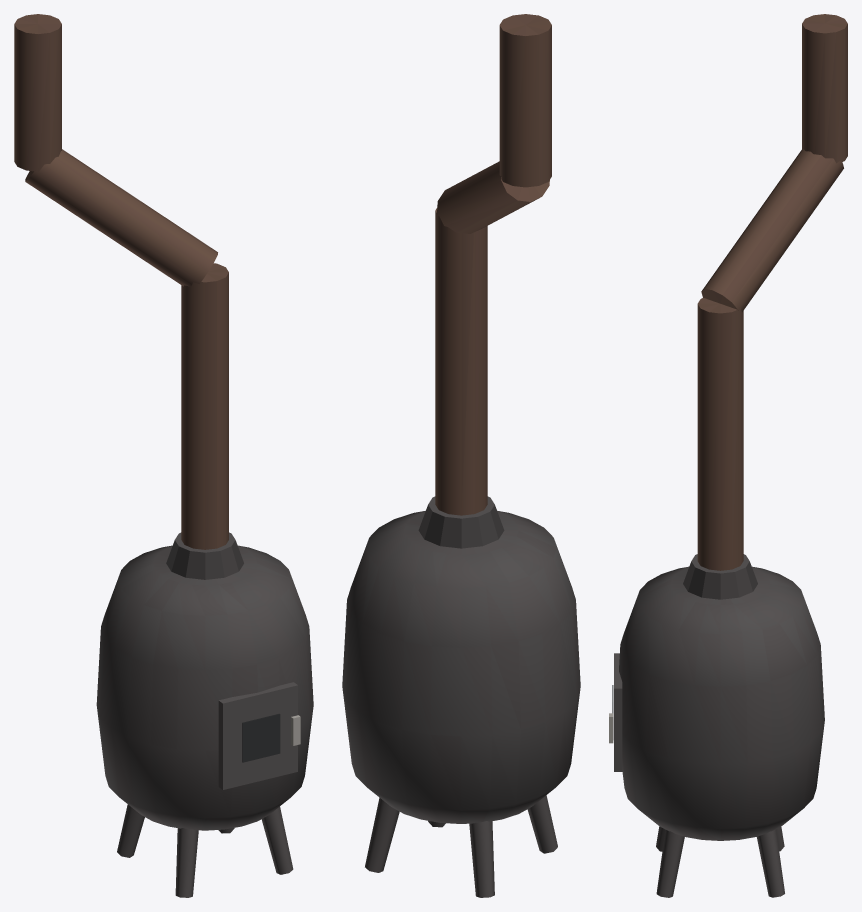
The model's file is cabin_stove_a.glb.
The picture shows the model from 3 angles, left to right: view 1: azimuth 30°, elevation 25°; view 2: azimuth 150°, elevation 25°; view 3: azimuth 270°, elevation 25°; orthographic projection. The views are drawn at different scales.
Visible parts, largest first — view 1: body, door; view 2: body; view 3: body, door.
Boxes of the visible parts, bbox=[...] form: body: bbox=[14, 14, 313, 897]; door: bbox=[218, 682, 300, 789]; body: bbox=[342, 14, 580, 897]; body: bbox=[619, 14, 847, 897]; door: bbox=[609, 653, 622, 771].
Bounding box in the file's own units: 0.605 × 2.1 × 0.572.
